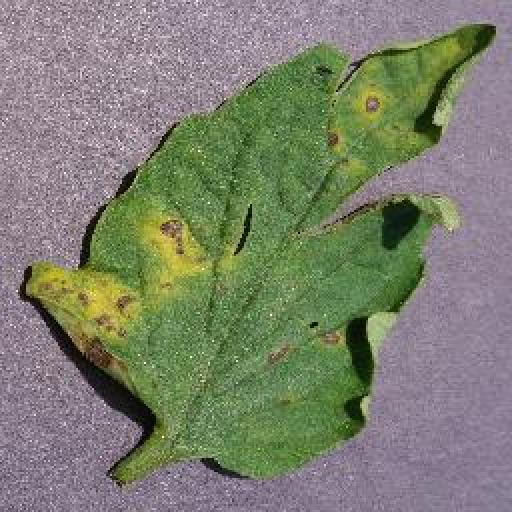disease_tomato: (24, 18, 499, 478)
